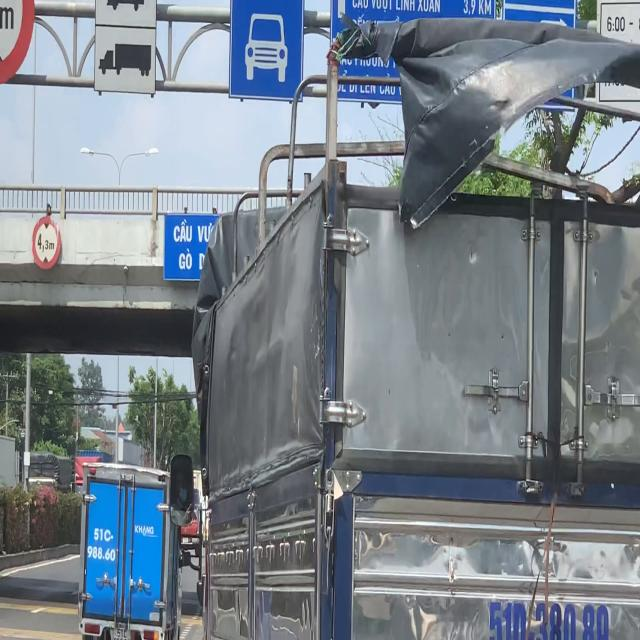Chieu cao toi da: (28, 213, 68, 270)
